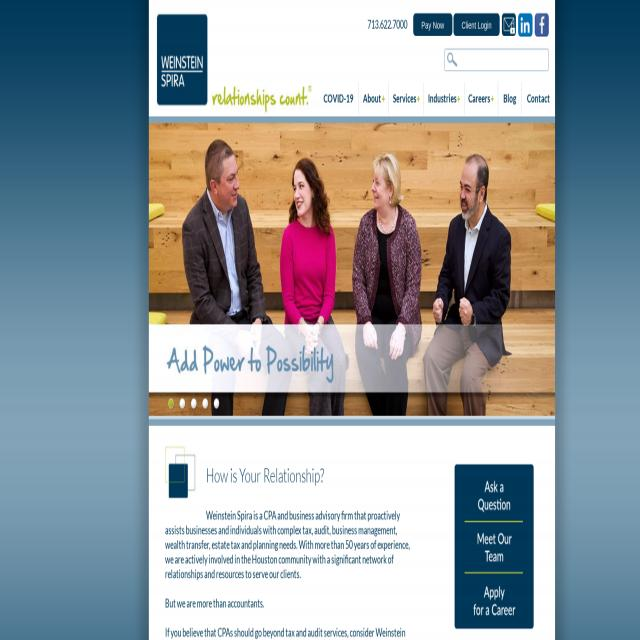button: (149, 10, 313, 116), (454, 465, 534, 522), (454, 572, 533, 628), (454, 522, 534, 569), (165, 440, 198, 510), (318, 82, 358, 116), (424, 82, 464, 116), (389, 82, 423, 116), (464, 82, 498, 116), (454, 12, 501, 36), (522, 81, 555, 115), (359, 82, 389, 116), (413, 13, 452, 37), (498, 82, 521, 116), (518, 13, 532, 37), (535, 13, 549, 37), (502, 13, 516, 37), (447, 53, 457, 66)
field: (444, 48, 549, 71)
